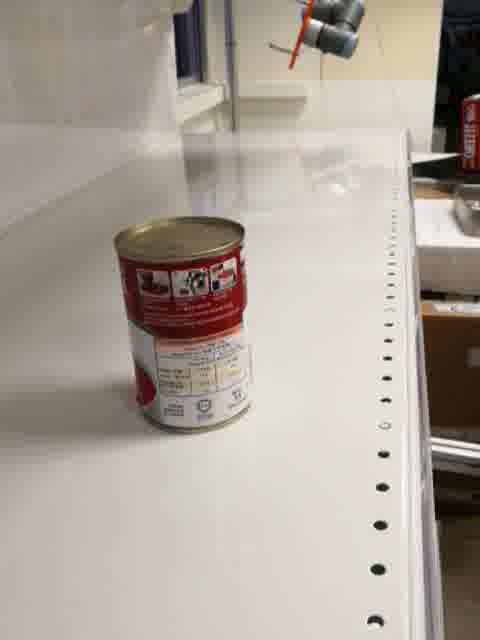tomatosoup: (113, 215, 253, 434)
